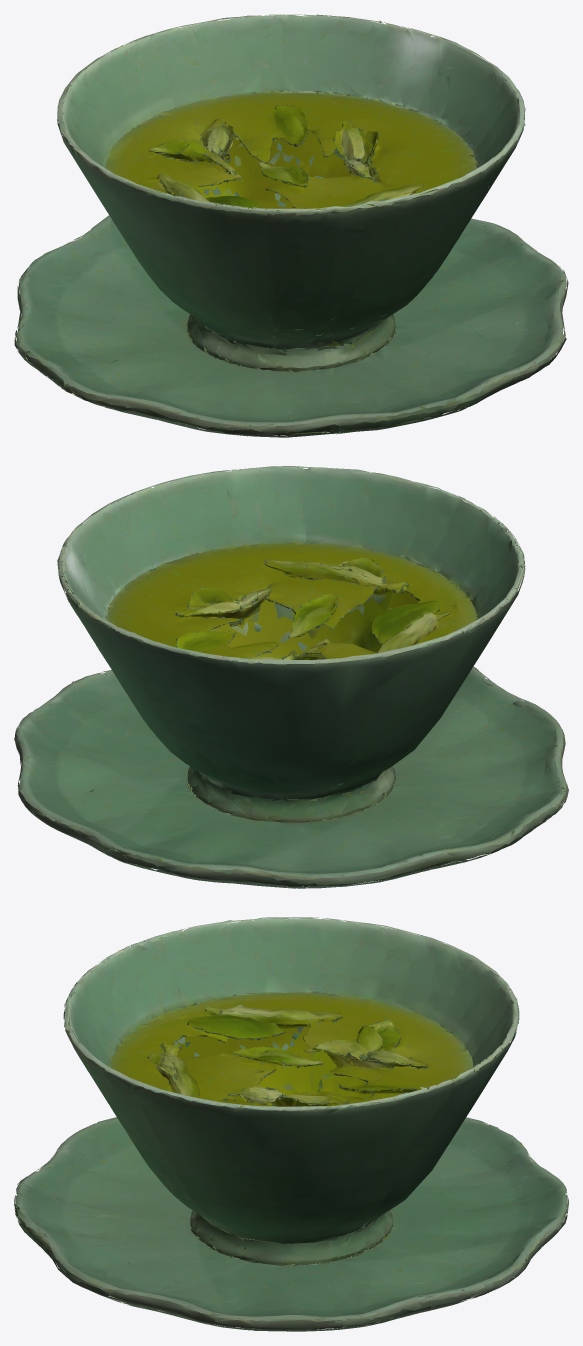
The model's file is tea-mobile.glb.
The picture shows the model from 3 angles, top to bottom: view 1: azimuth 30°, elevation 25°; view 2: azimuth 150°, elevation 25°; view 3: azimuth 270°, elevation 25°; orthographic projection. The views are drawn at different scales.
Parts seen in each view (by area): view 1: tea_lux3d; view 2: tea_lux3d; view 3: tea_lux3d.
Boxes of the visible parts, x1,y1,x2,y2 form: tea_lux3d: (14,14,568,437); tea_lux3d: (14,466,568,888); tea_lux3d: (14,917,568,1331).
Bounding box in the file's own units: 5.99 × 2.87 × 6.
Materials: 1 (1 with a texture image).
